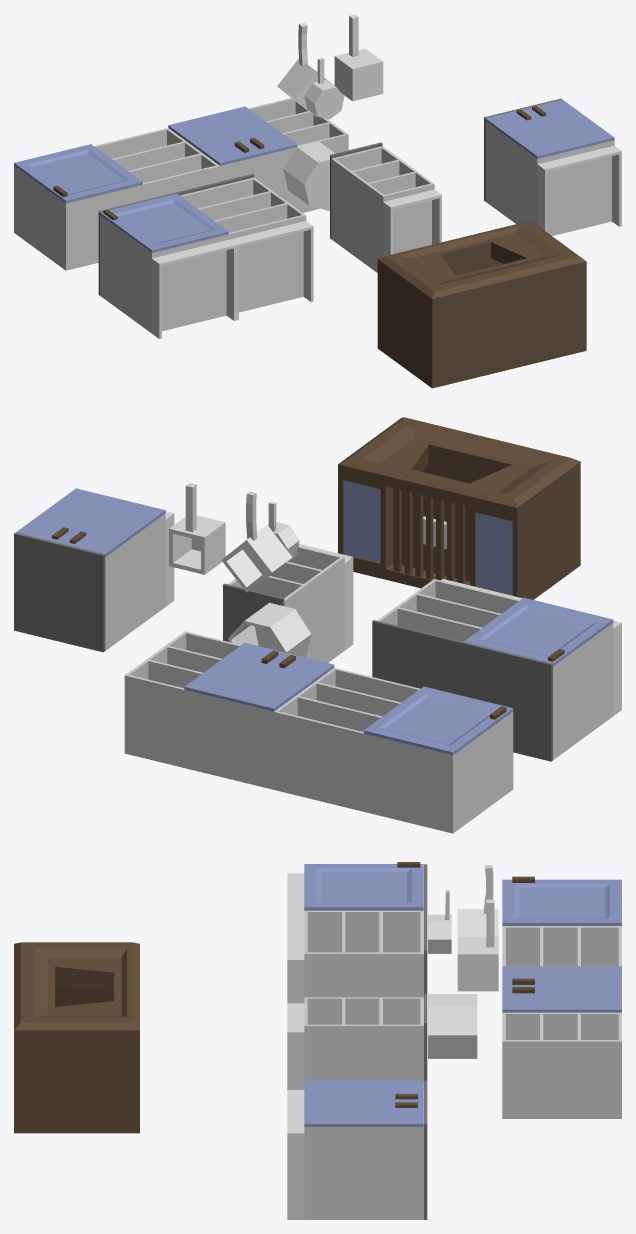
Rendered from Kitchen.fbx.
3 views of the same model, one above another, from view 1: azimuth 30°, elevation 25°; view 2: azimuth 150°, elevation 25°; view 3: azimuth 270°, elevation 25° (orthographic). The views are drawn at different scales.
Parts seen in each view (by area): view 1: Oven, Cabinet 1, Cabinet 3, Cabinet 4, Cabinet 2, Upper Cabinet 1, Upper Cabinet 2, Cabinet 1 Door, Upper Cabinet 1 Door, Upper Cabinet 4, Pot 3, Pot 1 (+7 smaller); view 2: Oven, Cabinet 3, Cabinet 1, Upper Cabinet 2, Upper Cabinet 1, Cabinet 2, Cabinet 4, Upper Cabinet 4, Upper Cabinet 3, Upper Cabinet 1 Door, Cabinet 1 Door, Pot 3 (+7 smaller); view 3: Oven, Cabinet 3, Upper Cabinet 4, Cabinet 2, Cabinet 4, Upper Cabinet 1 Door, Cabinet 1 Door, Upper Cabinet 2, Pot 1, Upper Cabinet 3 Door R, Cabinet 3 Door R, Cabinet 3 Door L (+5 smaller).
Boxes of the visible parts, <box> form: Oven: <box>377,221,586,388</box>; Cabinet 1: <box>98,192,236,338</box>; Cabinet 3: <box>484,98,621,235</box>; Cabinet 4: <box>330,142,441,272</box>; Cabinet 2: <box>176,173,313,320</box>; Upper Cabinet 1: <box>14,166,142,270</box>; Upper Cabinet 2: <box>94,128,219,200</box>; Cabinet 1 Door: <box>100,193,228,252</box>; Upper Cabinet 1 Door: <box>14,144,142,203</box>; Upper Cabinet 4: <box>248,98,348,212</box>; Pot 3: <box>334,14,383,101</box>; Pot 1: <box>283,141,335,210</box>; Oven: <box>338,417,580,599</box>; Cabinet 3: <box>14,511,174,652</box>; Cabinet 1: <box>461,620,621,761</box>; Upper Cabinet 2: <box>274,667,420,811</box>; Upper Cabinet 1: <box>363,712,513,833</box>; Cabinet 2: <box>372,579,522,695</box>; Cabinet 4: <box>223,544,353,662</box>; Upper Cabinet 4: <box>124,631,240,767</box>; Upper Cabinet 3: <box>184,690,273,789</box>; Upper Cabinet 1 Door: <box>363,686,513,755</box>; Cabinet 1 Door: <box>464,597,613,666</box>; Pot 3: <box>169,483,225,574</box>; Oven: <box>14,942,139,1133</box>; Cabinet 3: <box>287,1080,427,1219</box>; Upper Cabinet 4: <box>502,1012,621,1118</box>; Cabinet 2: <box>287,907,427,1003</box>; Cabinet 4: <box>287,994,427,1089</box>; Upper Cabinet 1 Door: <box>502,876,621,925</box>; Cabinet 1 Door: <box>304,862,423,910</box>; Upper Cabinet 2: <box>502,926,621,966</box>; Pot 1: <box>428,994,477,1058</box>; Upper Cabinet 3 Door R: <box>502,987,621,1012</box>; Cabinet 3 Door R: <box>304,1102,423,1126</box>; Cabinet 3 Door L: <box>304,1080,423,1102</box>.
Size of the model in its own units: 1800 by 723 by 1780.
